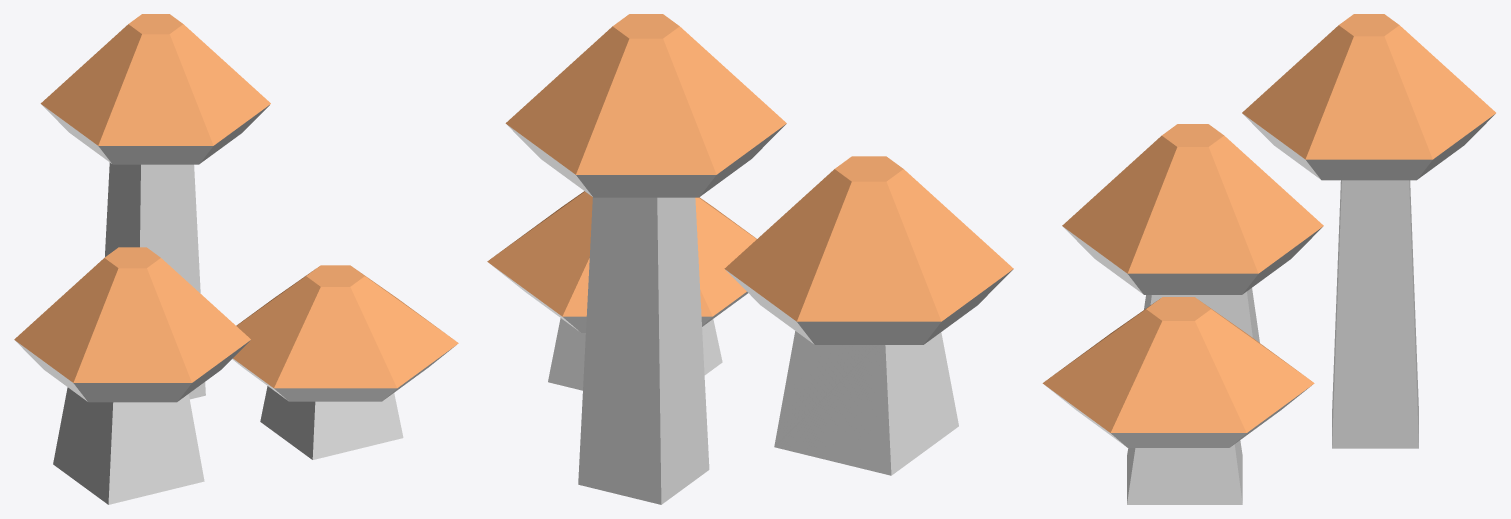
The model's file is d_kenney_champignons_bruns.glb.
The picture shows the model from 3 angles, left to right: view 1: azimuth 30°, elevation 25°; view 2: azimuth 150°, elevation 25°; view 3: azimuth 270°, elevation 25°; orthographic projection. The views are drawn at different scales.
Parts seen in each view (by area): view 1: d_kenney_champignons_bruns; view 2: d_kenney_champignons_bruns; view 3: d_kenney_champignons_bruns.
Part boxes in pixels (box(x1,y1,x2,y2)): d_kenney_champignons_bruns: box(14, 14, 458, 504); d_kenney_champignons_bruns: box(487, 14, 1013, 504); d_kenney_champignons_bruns: box(1042, 14, 1495, 504).
Size of the model in its own units: 0.2696 by 0.2505 by 0.2542.
1 material, 1 textured.
